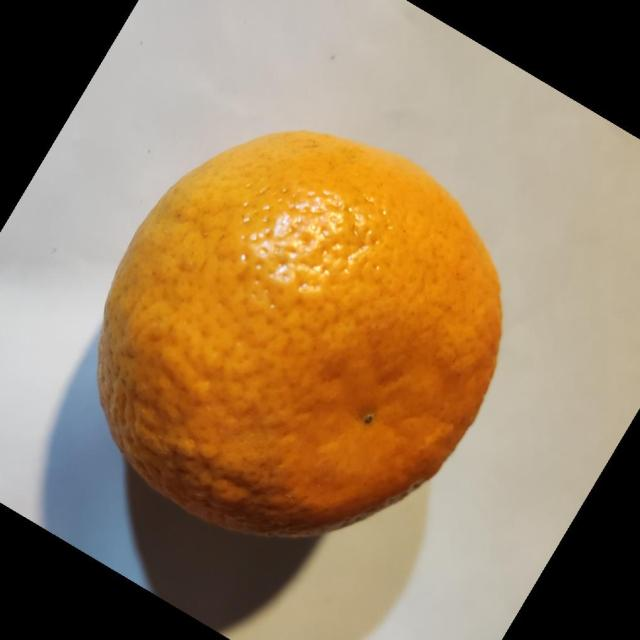fresh orange: (96, 128, 504, 539)
